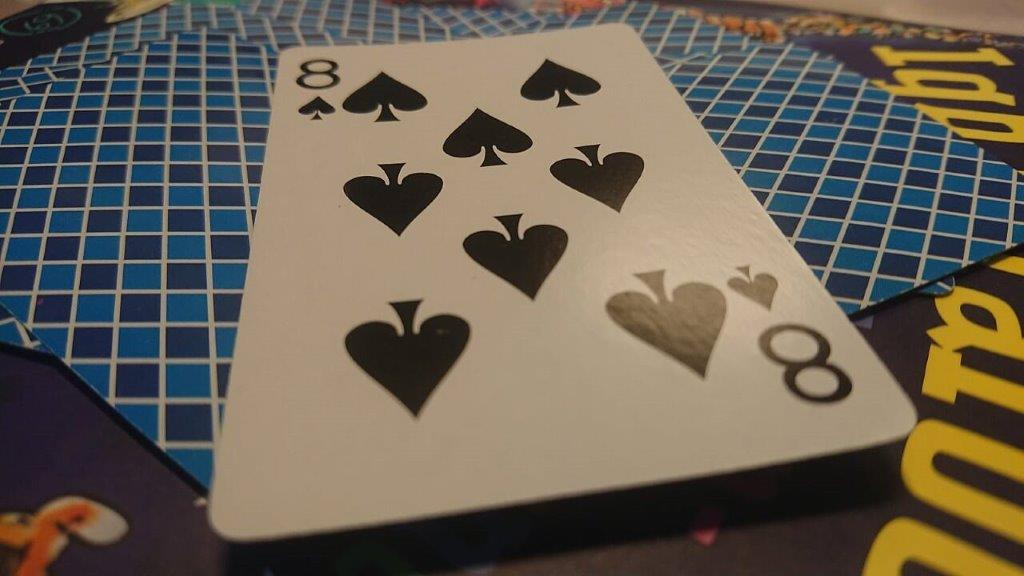8S: (206, 18, 920, 542)
BACK: (1, 23, 207, 495), (920, 104, 1024, 290)
